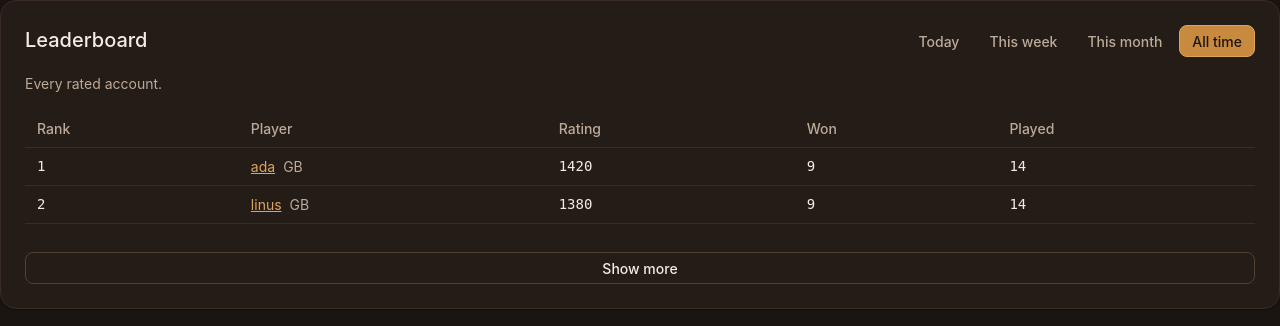
Test: the leaderboard screen › pages with the cursor the previous page returned
Expected: the table with test id "leaderboard-table" is shown, x1=25 y1=110 x2=1255 y2=224
Step 1. Click the button with test id "load-more" → (640,268), box x1=25 y1=252 x2=1255 y2=284
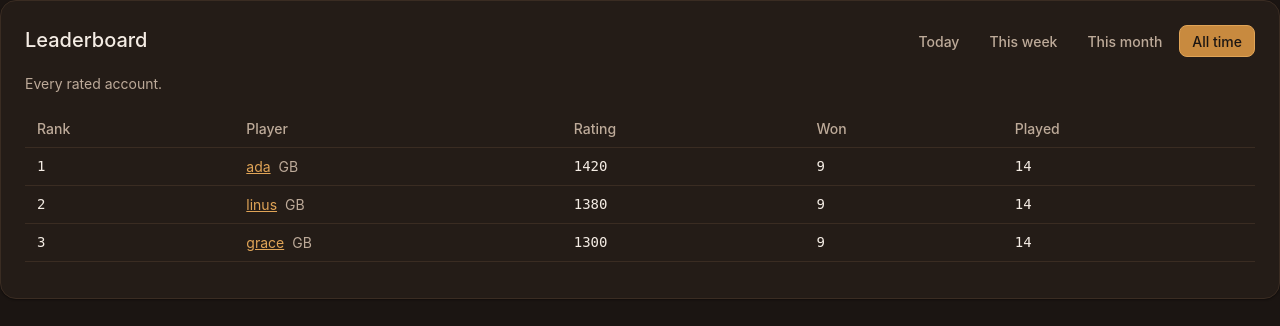
Now the row with test id "leaderboard-row-grace" is shown, box x1=25 y1=224 x2=1255 y2=262
Now the button with test id "load-more" is gone
